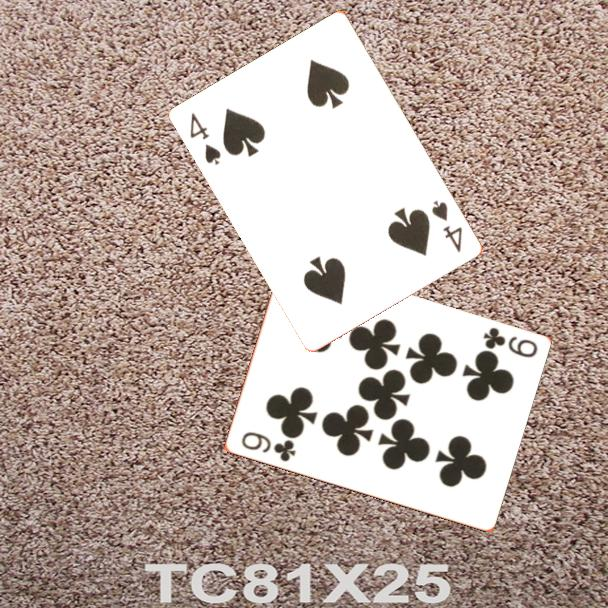c09: (237, 428, 298, 465), (479, 324, 540, 361)
s04: (428, 196, 466, 255), (187, 109, 225, 168)
